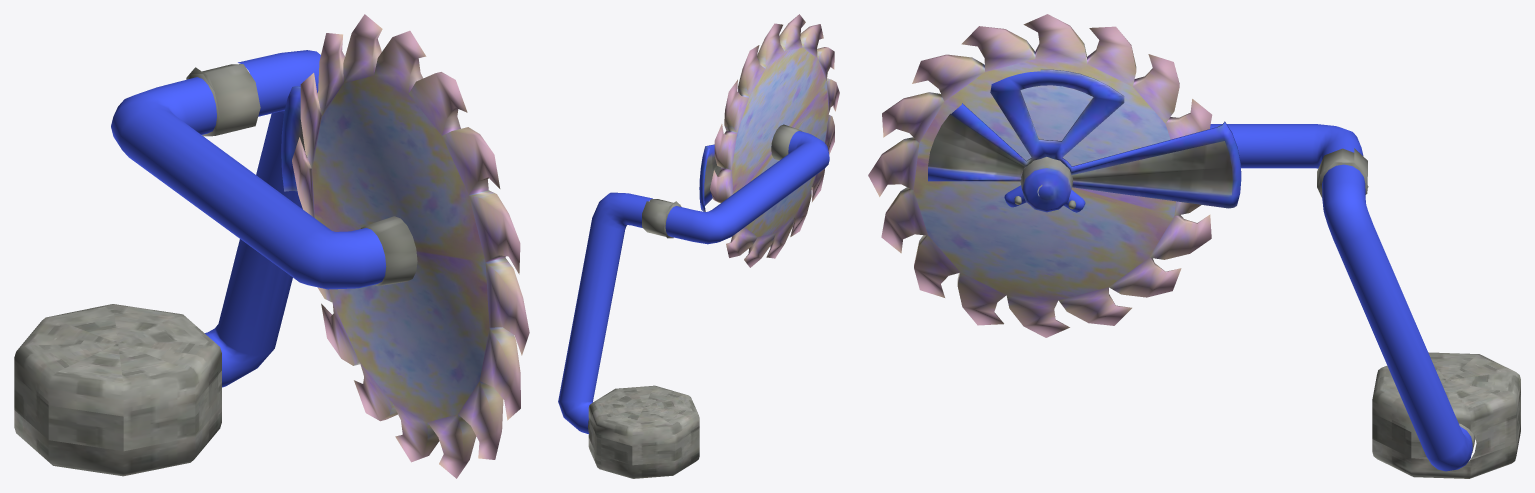
3 renders of one model, left to right at view 1: azimuth 30°, elevation 25°; view 2: azimuth 150°, elevation 25°; view 3: azimuth 270°, elevation 25°, orthographic. The views are drawn at different scales.
Parts seen in each view (by area): view 1: SAWBLADE, Base-metal_turret, Arm2-metal_turret, Arm1-SawBody, Arm2-SawBody; view 2: SAWBLADE, Arm1-SawBody, Base-metal_turret, Arm2-metal_turret, Arm2-SawBody; view 3: SAWBLADE, Arm2-SawBody, Arm1-SawBody, Base-metal_turret, Arm2-metal_turret.
Part boxes in pixels (bbox=[...]): SAWBLADE: bbox=[292, 14, 529, 478]; Base-metal_turret: bbox=[14, 304, 221, 476]; Arm2-metal_turret: bbox=[111, 64, 417, 289]; Arm1-SawBody: bbox=[186, 50, 320, 387]; Arm2-SawBody: bbox=[281, 86, 307, 191]; SAWBLADE: bbox=[710, 14, 839, 267]; Arm1-SawBody: bbox=[558, 192, 681, 434]; Base-metal_turret: bbox=[588, 385, 699, 478]; Arm2-metal_turret: bbox=[649, 124, 829, 244]; Arm2-SawBody: bbox=[699, 144, 720, 211]; SAWBLADE: bbox=[868, 14, 1212, 337]; Arm2-SawBody: bbox=[928, 69, 1241, 212]; Arm1-SawBody: bbox=[1319, 148, 1475, 471]; Base-metal_turret: bbox=[1372, 352, 1520, 478]; Arm2-metal_turret: bbox=[1210, 124, 1368, 197].
Bounding box in the file's own units: 1.11 × 2.63 × 3.48.
Materials: 3 (3 with a texture image).
